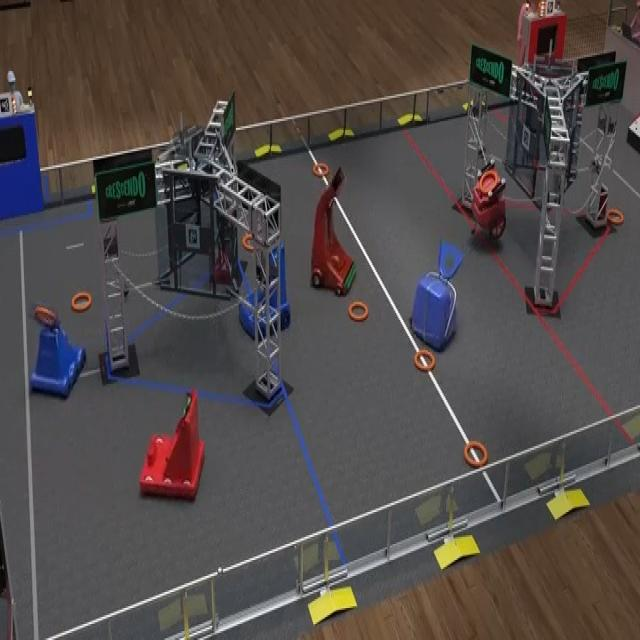notes: (462, 440, 488, 469), (69, 289, 94, 314), (412, 346, 436, 372), (345, 300, 370, 323), (607, 209, 624, 224), (314, 163, 328, 177), (243, 236, 254, 250)
